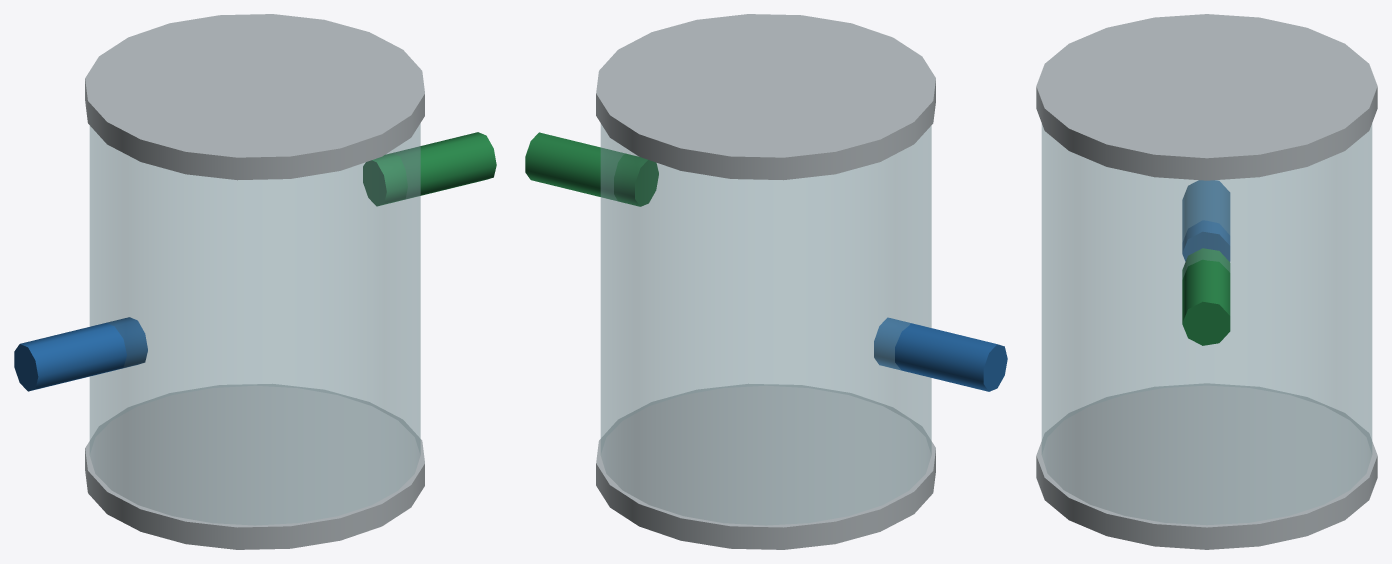
File: catalogue-gas-exchange.glb
3 views of the same model, side by side, from view 1: azimuth 30°, elevation 25°; view 2: azimuth 150°, elevation 25°; view 3: azimuth 270°, elevation 25° (orthographic).
Size of the model in its own units: 0.96 by 0.785 by 0.62.
